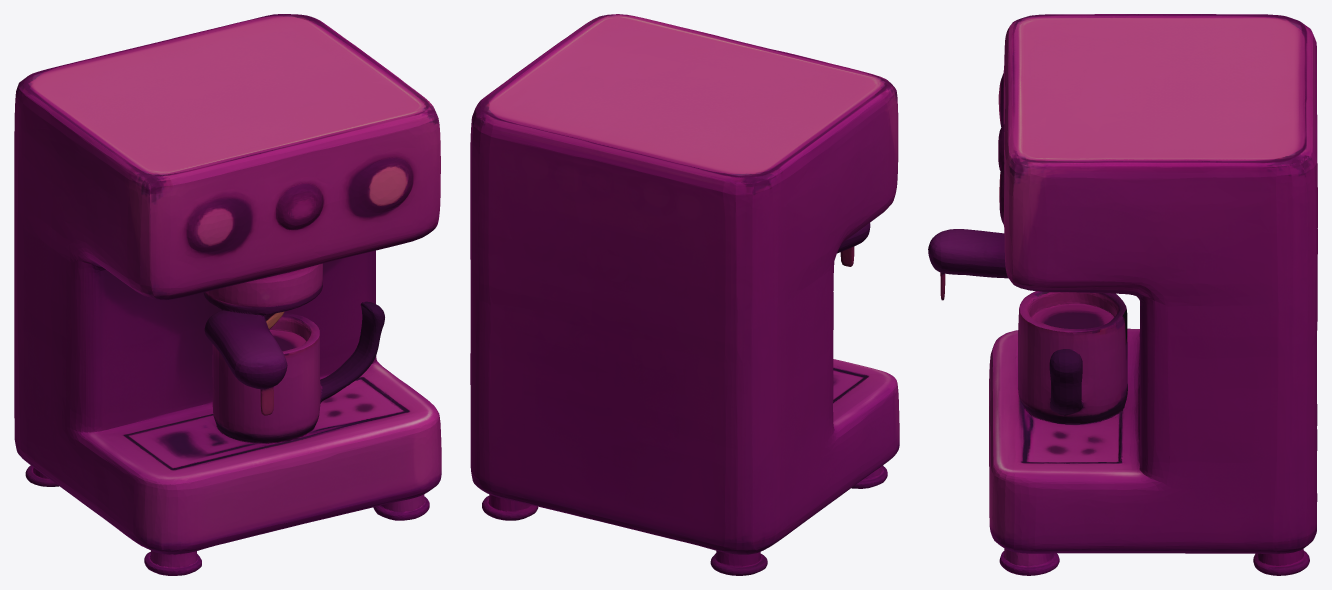
The picture shows the model from 3 angles, left to right: view 1: azimuth 30°, elevation 25°; view 2: azimuth 150°, elevation 25°; view 3: azimuth 270°, elevation 25°; orthographic projection. The views are drawn at different scales.
Visible parts, largest first — view 1: world; view 2: world; view 3: world.
Part boxes in pixels (left/top/right/bottom): world: left=14, top=14, right=441, bottom=575; world: left=470, top=14, right=899, bottom=575; world: left=928, top=14, right=1317, bottom=575.
Bounding box in the file's own units: 0.7988 × 0.9909 × 0.8341.
Materials: 1 (1 with a texture image).
